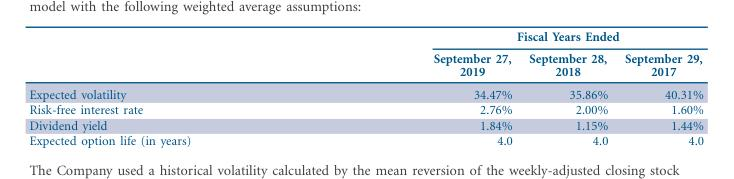table: (28, 29, 702, 147)
table column: (28, 29, 311, 147), (311, 29, 520, 147), (520, 29, 615, 147), (615, 29, 702, 147)
table column header: (28, 29, 702, 82)
table row: (28, 47, 702, 82), (28, 82, 702, 102), (28, 29, 702, 47), (28, 117, 702, 133), (28, 102, 702, 117), (28, 133, 702, 147)
table spanning cell: (311, 29, 702, 47)
